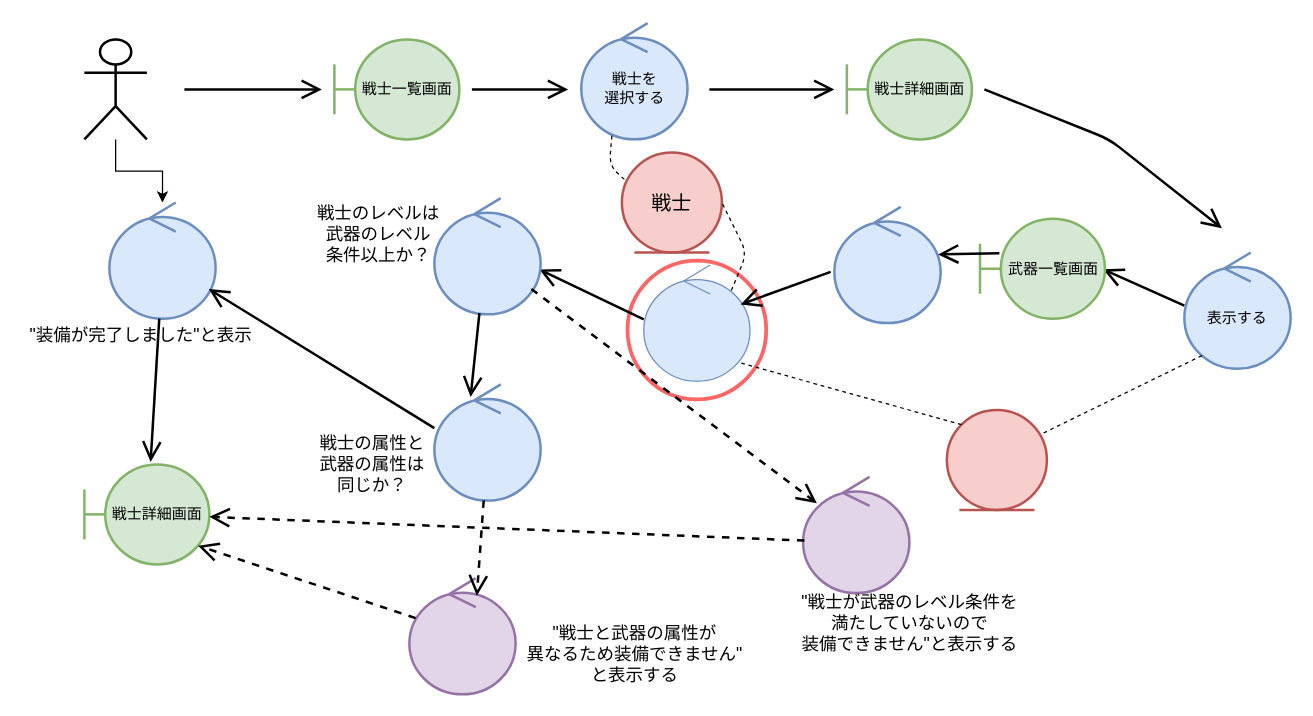
Some shapes in this 1313 by 716 pixel diagram are drawn without their labels. The centre of each missing label's shape, as x and y in pixels:
ユーザー(Actor): (x=115, y=89)
戦士に武器を 装備する: (x=696, y=322)
武器: (x=996, y=459)
武器を 選択する: (x=886, y=264)
